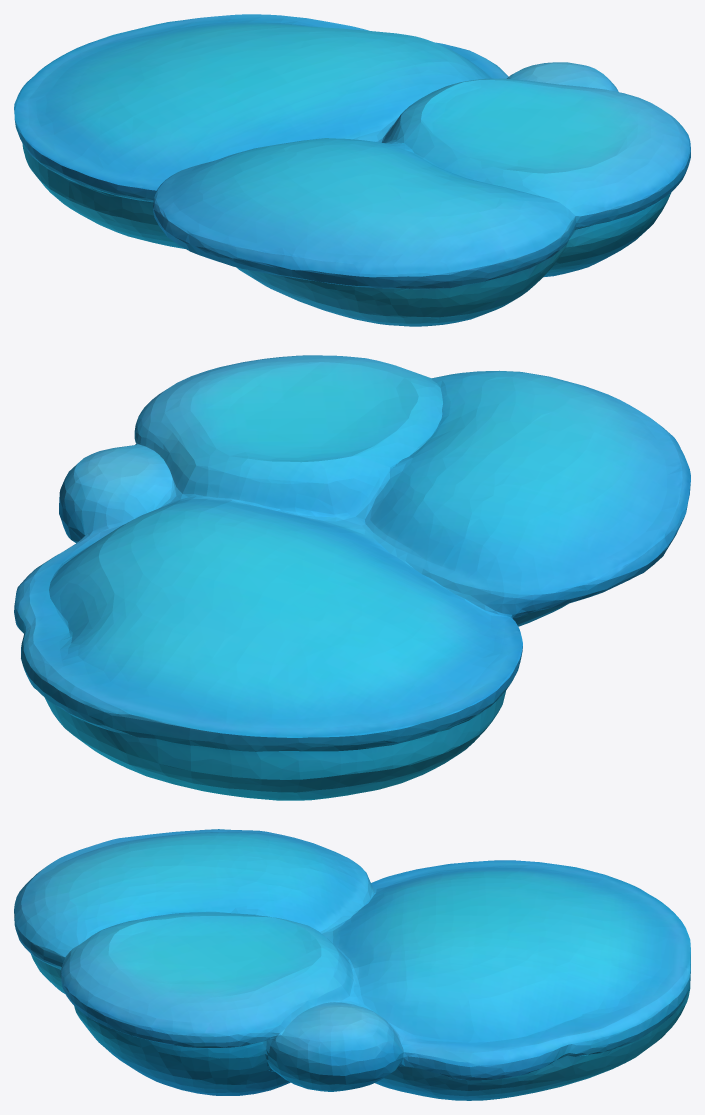
Rendered from bubble_floor.glb.
3 views of the same model, one above another, from view 1: azimuth 30°, elevation 25°; view 2: azimuth 150°, elevation 25°; view 3: azimuth 270°, elevation 25° (orthographic). The views are drawn at different scales.
Parts seen in each view (by area): view 1: world.001; view 2: world.001; view 3: world.001.
Boxes of the visible parts, x1,y1,x2,y2 form: world.001: (14,14,690,326); world.001: (14,355,690,800); world.001: (14,829,690,1100).
Bounding box in the file's own units: 0.7652 × 0.2687 × 1.
Materials: 1 (1 with a texture image).
